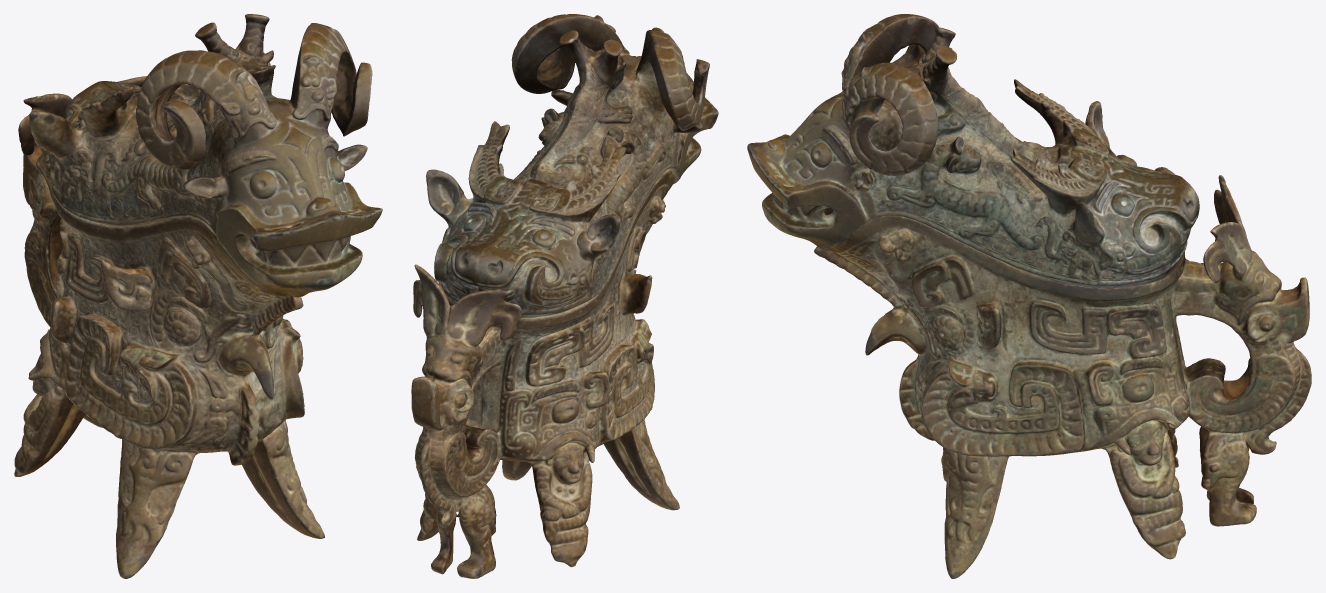
Rendered from guang.glb.
3 renders of one model, left to right at view 1: azimuth 30°, elevation 25°; view 2: azimuth 150°, elevation 25°; view 3: azimuth 270°, elevation 25°, orthographic. The views are drawn at different scales.
Parts seen in each view (by area): view 1: draco.glb; view 2: draco.glb; view 3: draco.glb.
Boxes of the visible parts, x1,y1,x2,y2 form: draco.glb: (14, 14, 382, 578); draco.glb: (411, 14, 718, 578); draco.glb: (747, 14, 1311, 578).
Bounding box in the file's own units: 0.1433 × 0.317 × 0.3253.
1 material, 1 textured.
